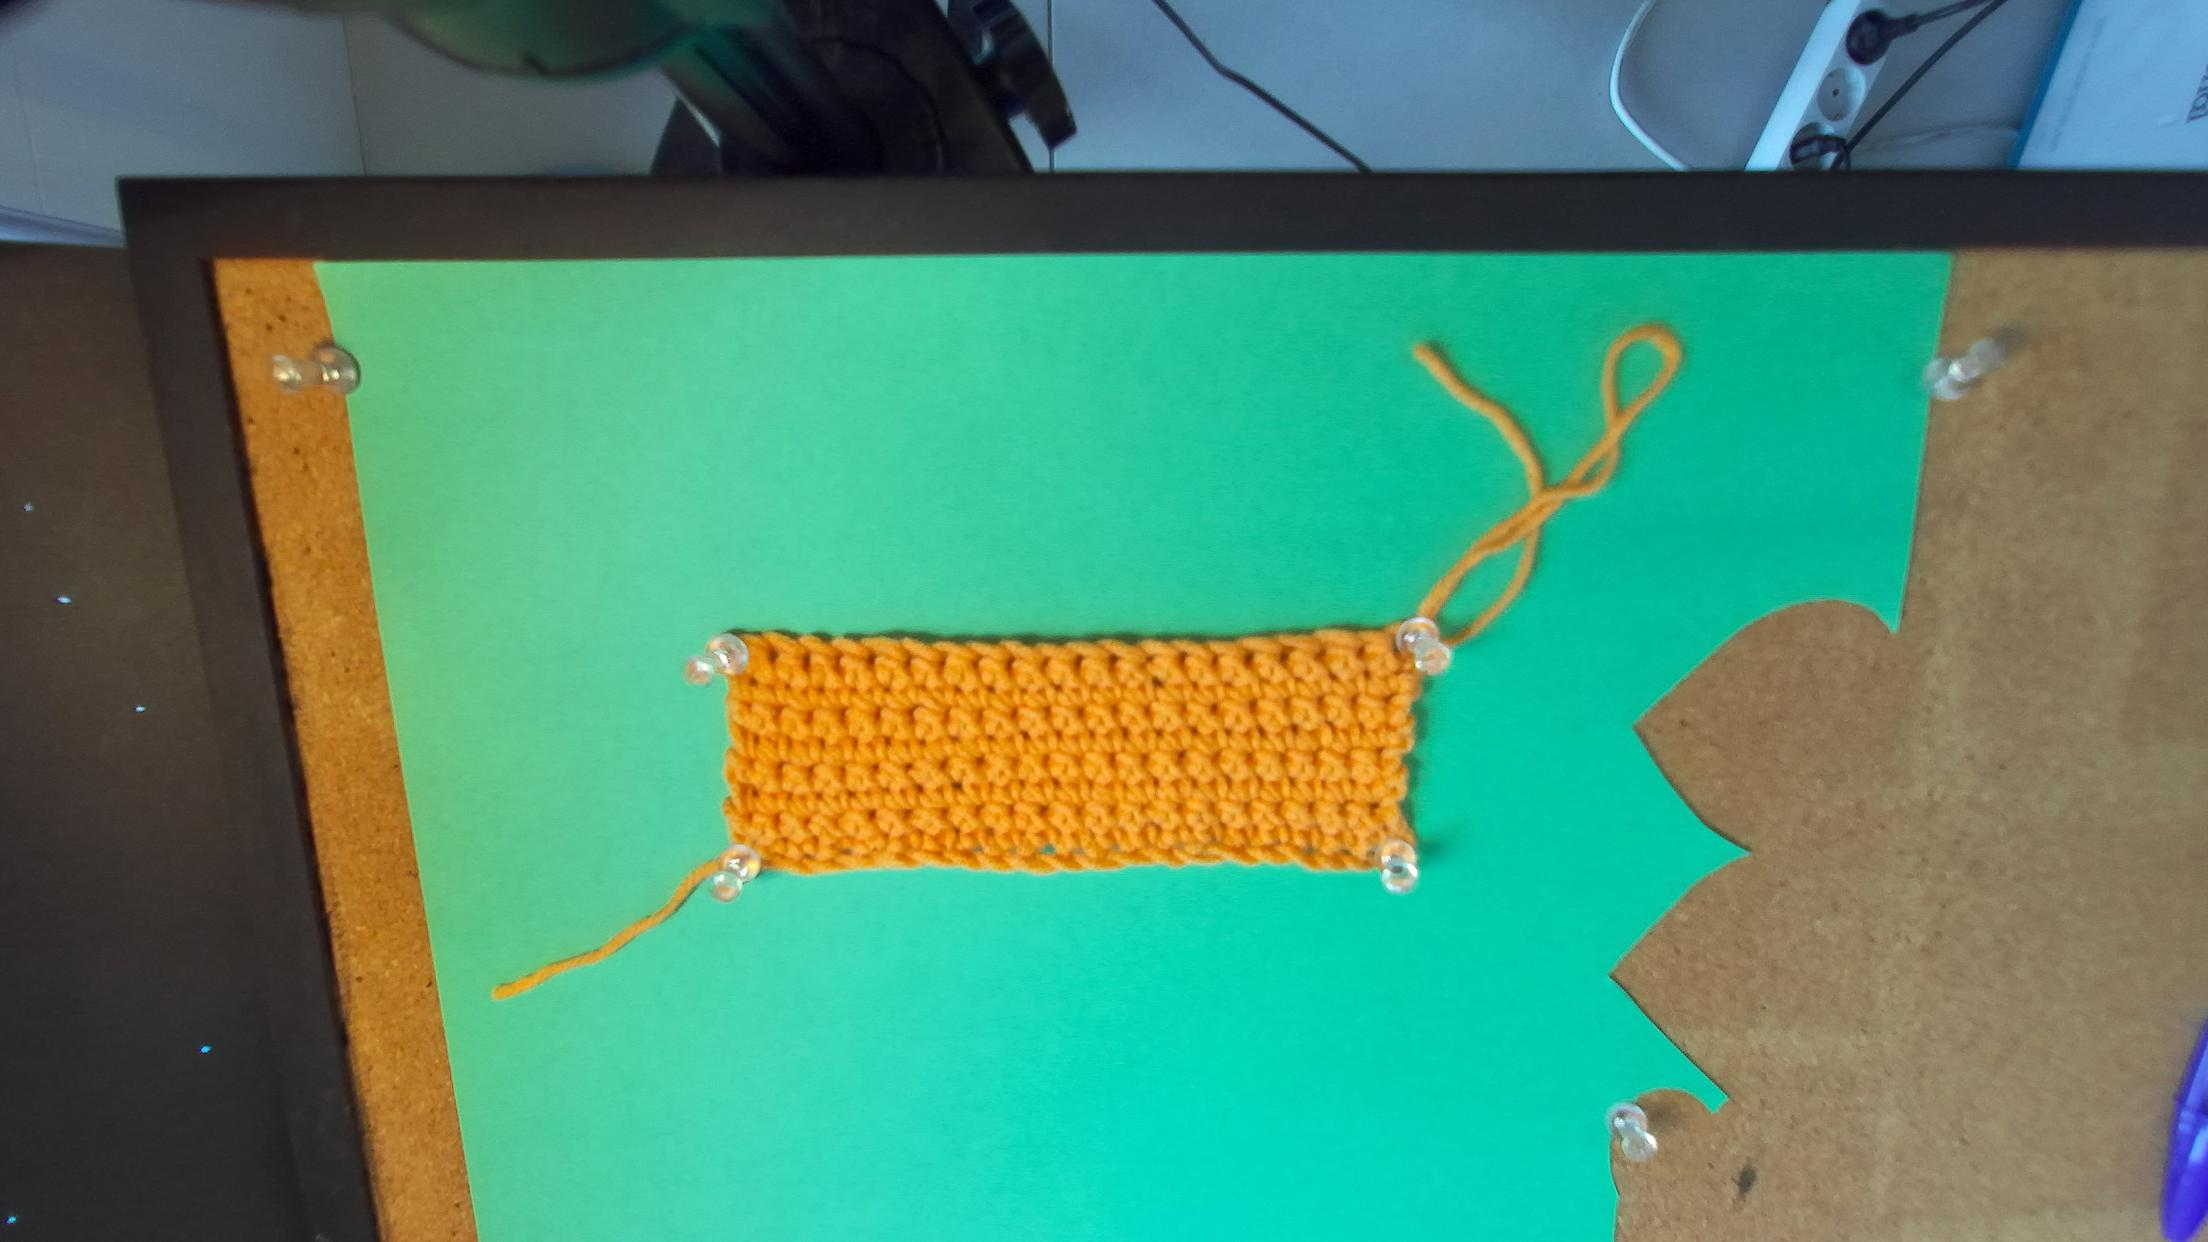hole: (904, 649, 916, 675), (766, 648, 781, 667), (833, 648, 846, 667), (866, 651, 880, 670), (1040, 657, 1055, 672), (1278, 648, 1294, 663), (1242, 651, 1256, 667), (1313, 643, 1327, 660), (1004, 655, 1016, 673), (971, 652, 981, 672), (801, 651, 810, 673), (1074, 654, 1086, 670), (1354, 643, 1366, 660), (936, 655, 946, 673), (1177, 649, 1190, 663), (1109, 654, 1121, 669), (1212, 654, 1224, 667), (1145, 655, 1157, 666)
swatch: (713, 629, 1422, 890)
